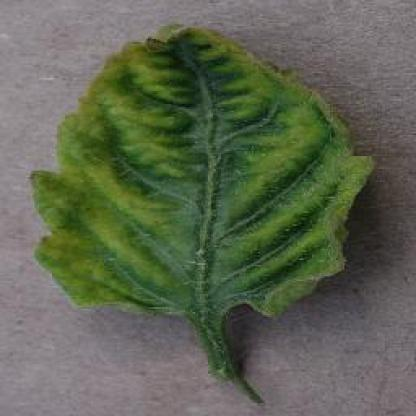bad leaf: (38, 52, 188, 305), (255, 49, 350, 126), (122, 15, 254, 69)
